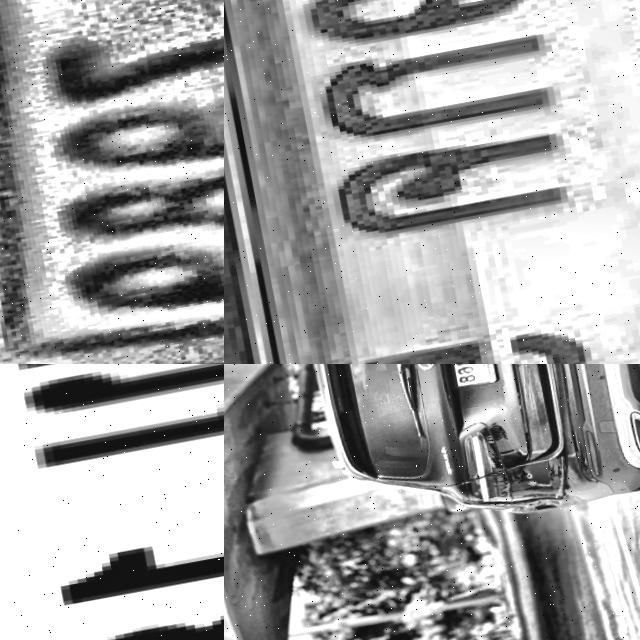license-plate: (224, 0, 640, 364), (0, 0, 224, 364), (0, 364, 224, 640), (439, 364, 495, 391)
